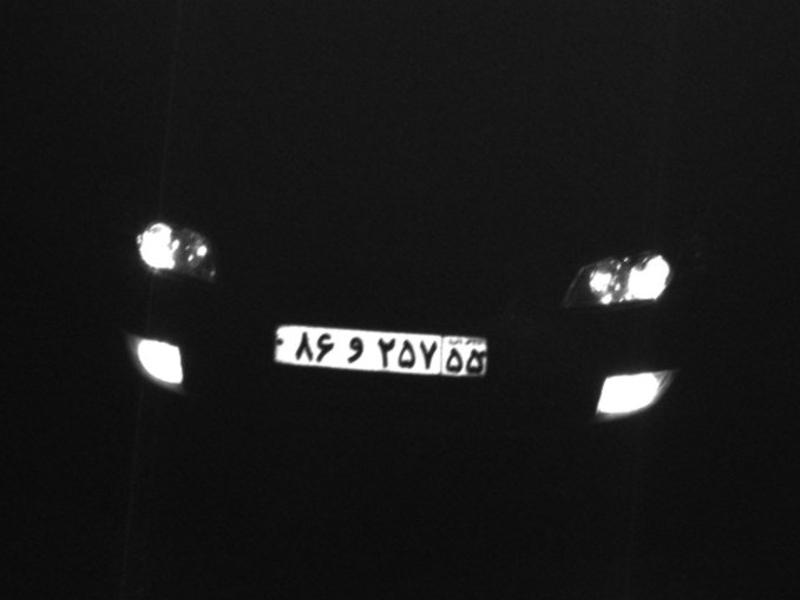Plate: (274, 323, 500, 390)
